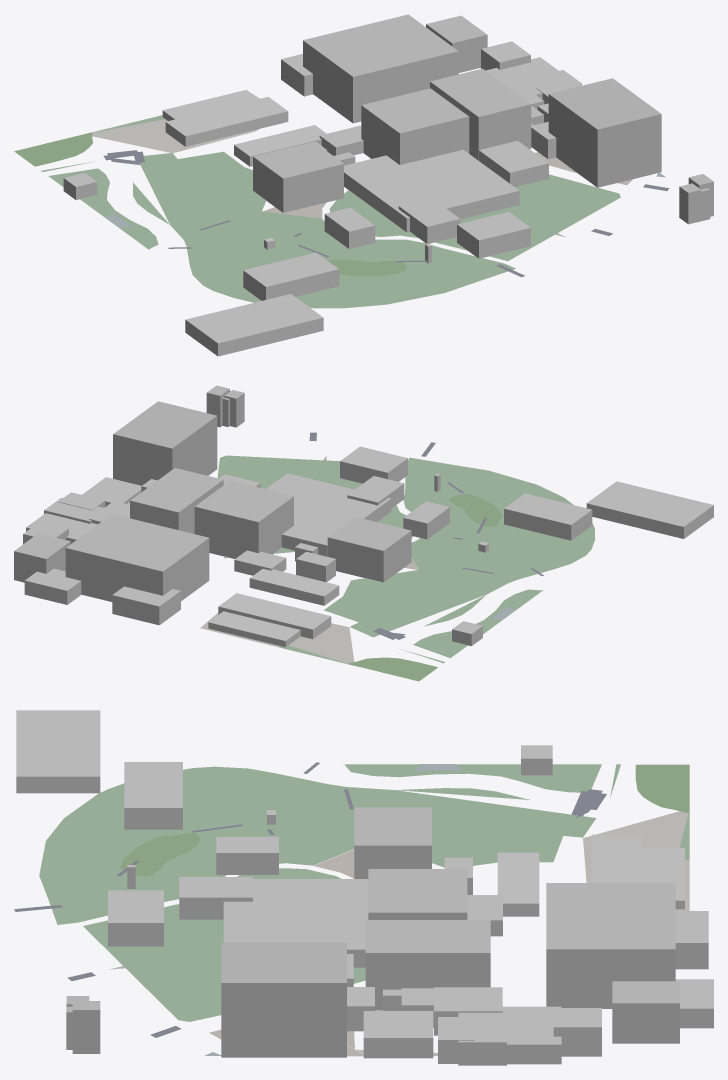
File: 113_101_mid.glb
The picture shows the model from 3 angles, top to bottom: view 1: azimuth 30°, elevation 25°; view 2: azimuth 150°, elevation 25°; view 3: azimuth 270°, elevation 25°; orthographic projection. The views are drawn at different scales.
Size of the model in its own units: 579 by 60 by 509.
